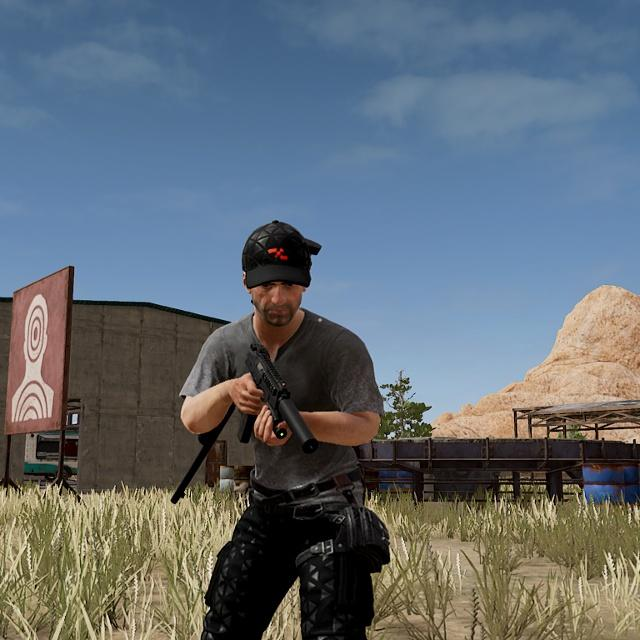head: (240, 219, 312, 331)
people: (178, 217, 385, 640)
